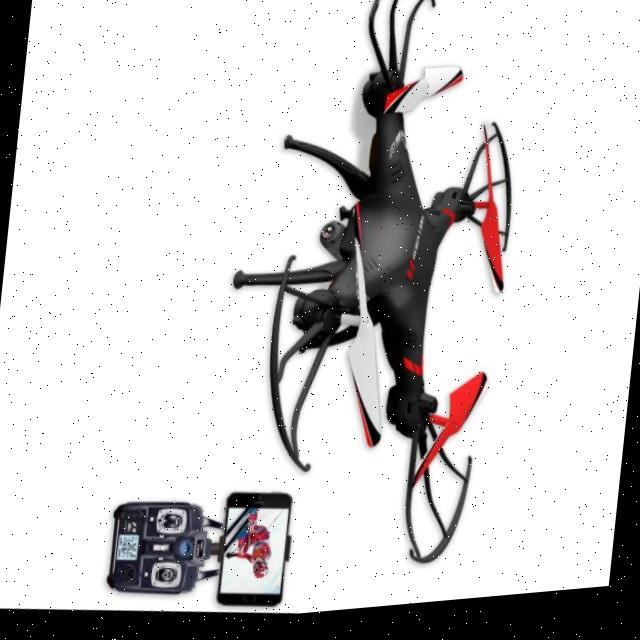drones: (205, 0, 574, 609)
